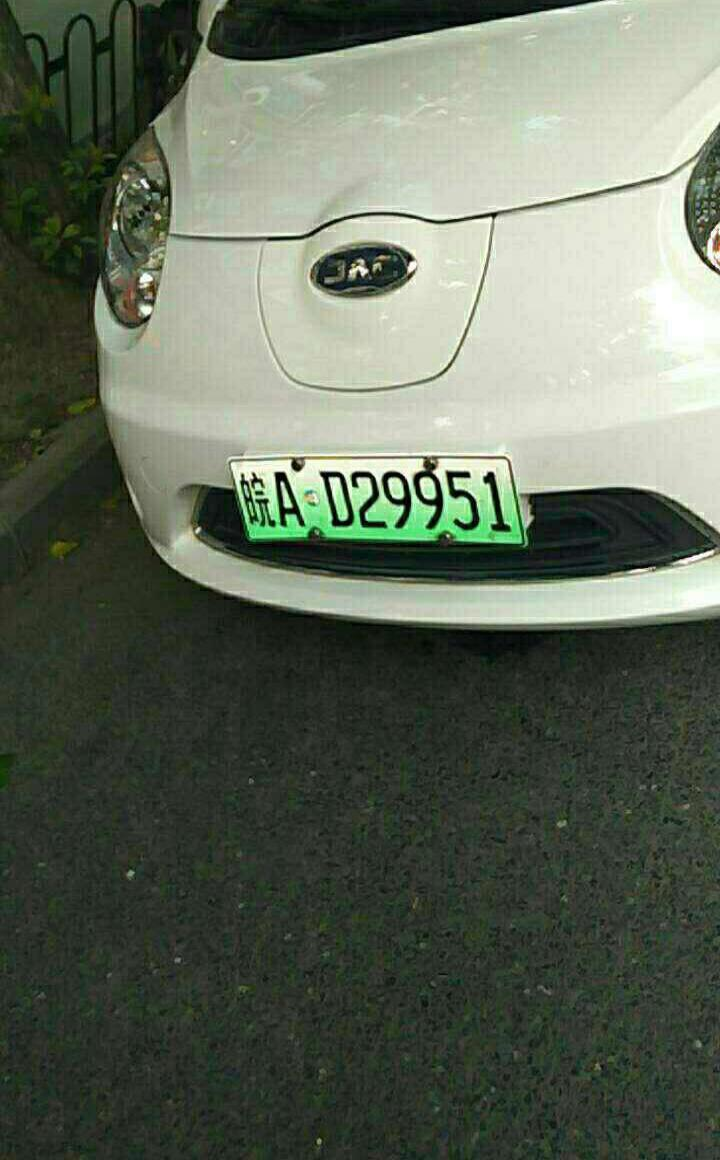car_id: (229, 457, 526, 542)
